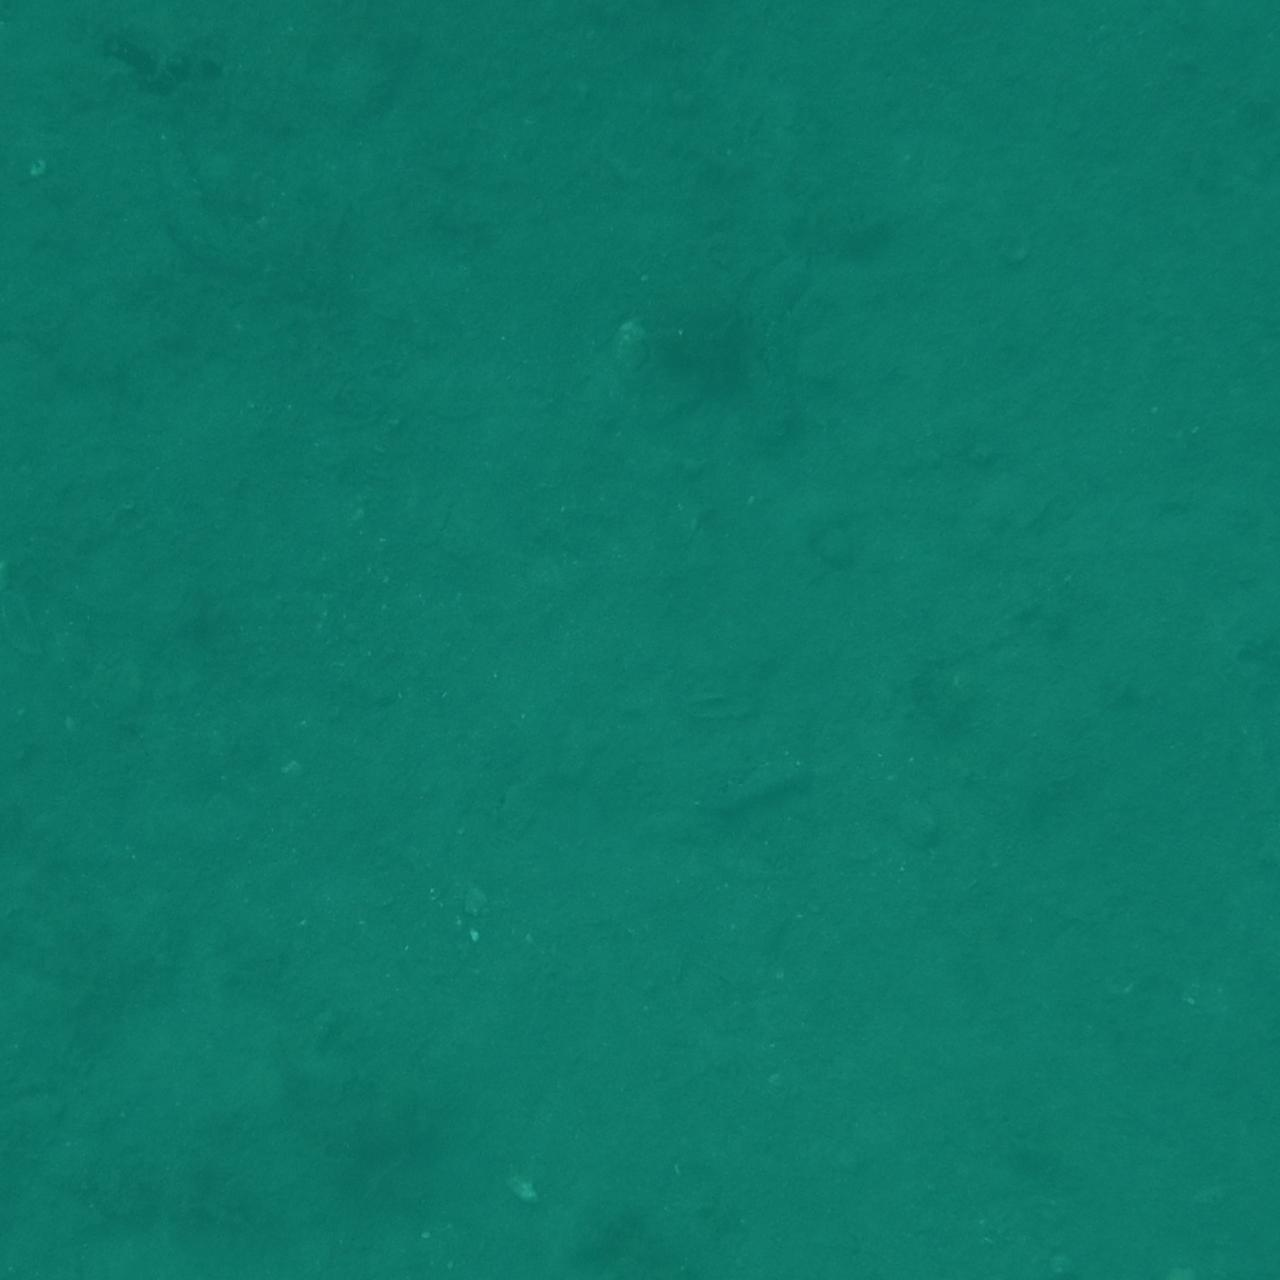Holothuria tubulosa: (107, 95, 291, 297), (225, 1128, 399, 1280), (0, 1022, 123, 1194), (1193, 334, 1280, 568), (1143, 704, 1280, 851), (0, 703, 77, 960), (835, 1203, 1084, 1280), (0, 1123, 118, 1280), (1087, 944, 1280, 1035), (0, 1170, 144, 1280), (775, 0, 973, 70), (67, 0, 245, 77), (586, 1216, 794, 1280), (0, 0, 144, 88), (1164, 1185, 1280, 1280), (1124, 1210, 1280, 1280), (1203, 130, 1280, 256), (256, 1169, 340, 1280), (0, 0, 120, 77), (0, 1225, 111, 1280), (1233, 1189, 1280, 1280)
Rifiuto: (0, 1175, 142, 1280)
